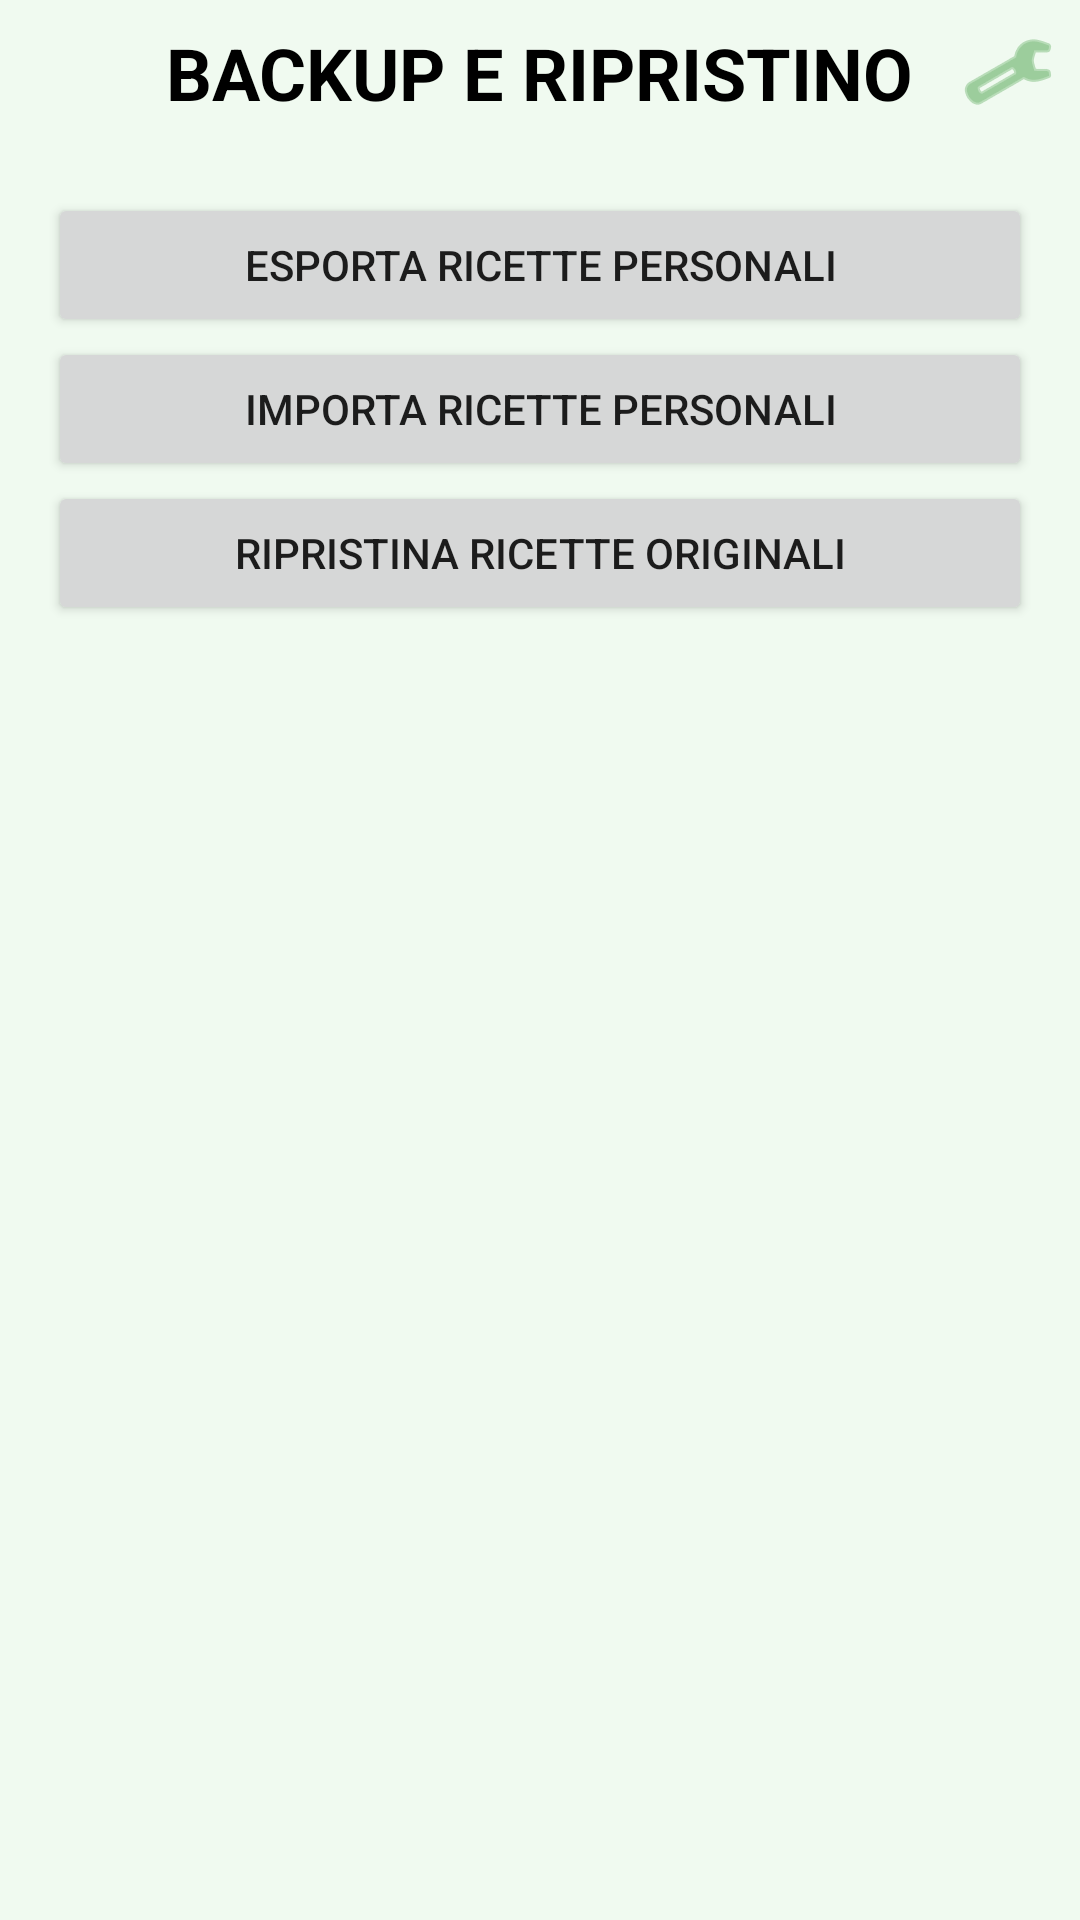

Icon click points for this 1080px×1920px phone screenshot, format [x,y]:
preferences: [1008,72]
